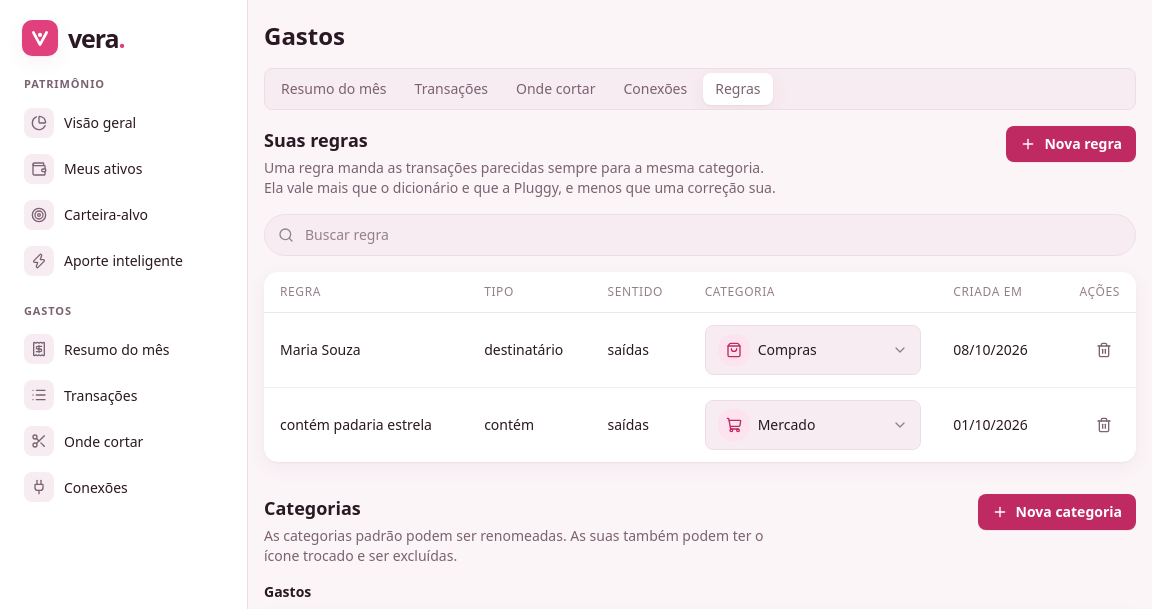
Test: RulesPage: regras › filtra pelo rótulo
The image size is (1152, 609).
Expected: the heading "Suas regras" is shown, x1=264 y1=128 x2=368 y2=152
Expected: the text "Maria Souza" is shown, x1=280 y1=340 x2=361 y2=359
Type "maria" into the search field named "Buscar regra pelo nome" at (700, 235), box x1=264 y1=214 x2=1136 y2=256
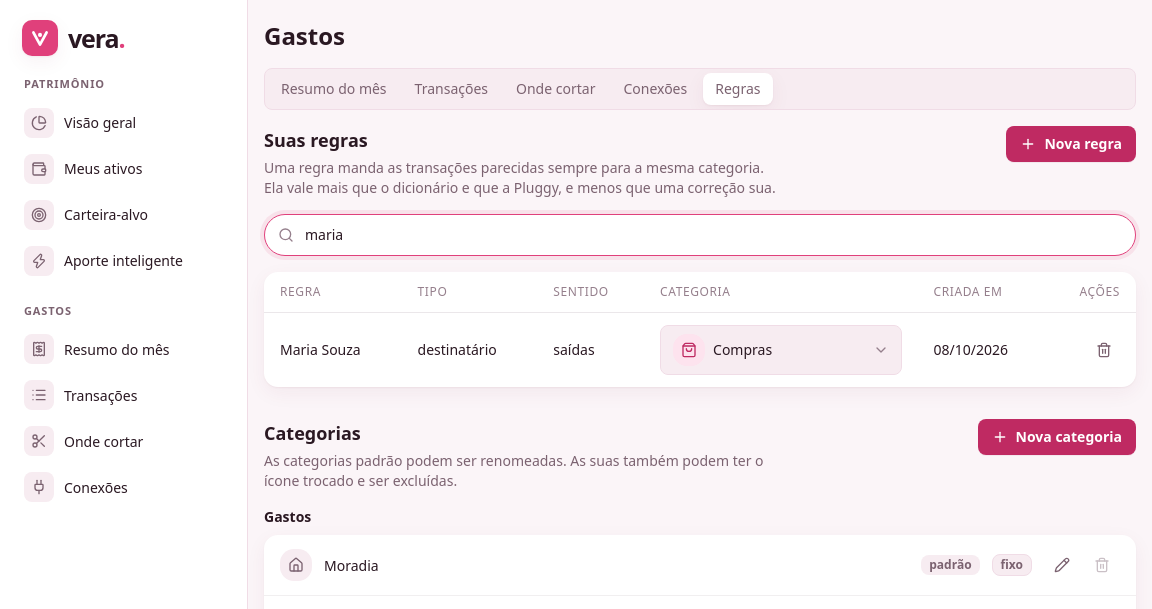
Expected: the text "Maria Souza" is shown, x1=280 y1=340 x2=361 y2=359
Expected: the text "contém padaria estrela" is gone
Replace the text in the search field named "Buscar regra pelo nome" with "zzz" at (700, 235), box x1=264 y1=214 x2=1136 y2=256
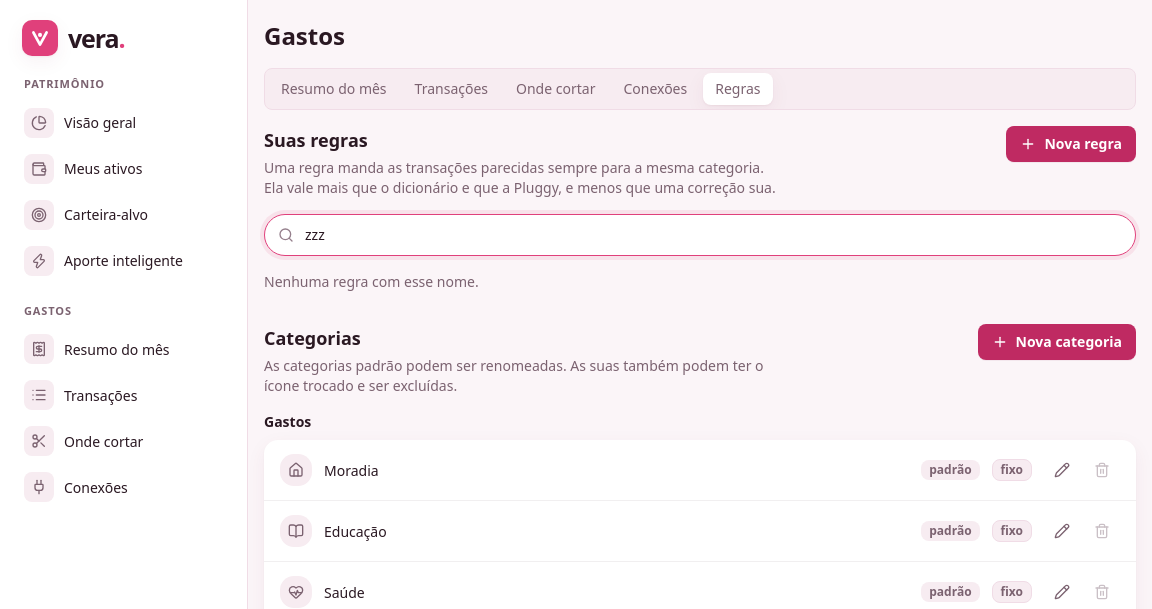
Expected: the text "Nenhuma regra com esse nome." is shown, x1=264 y1=272 x2=479 y2=291
